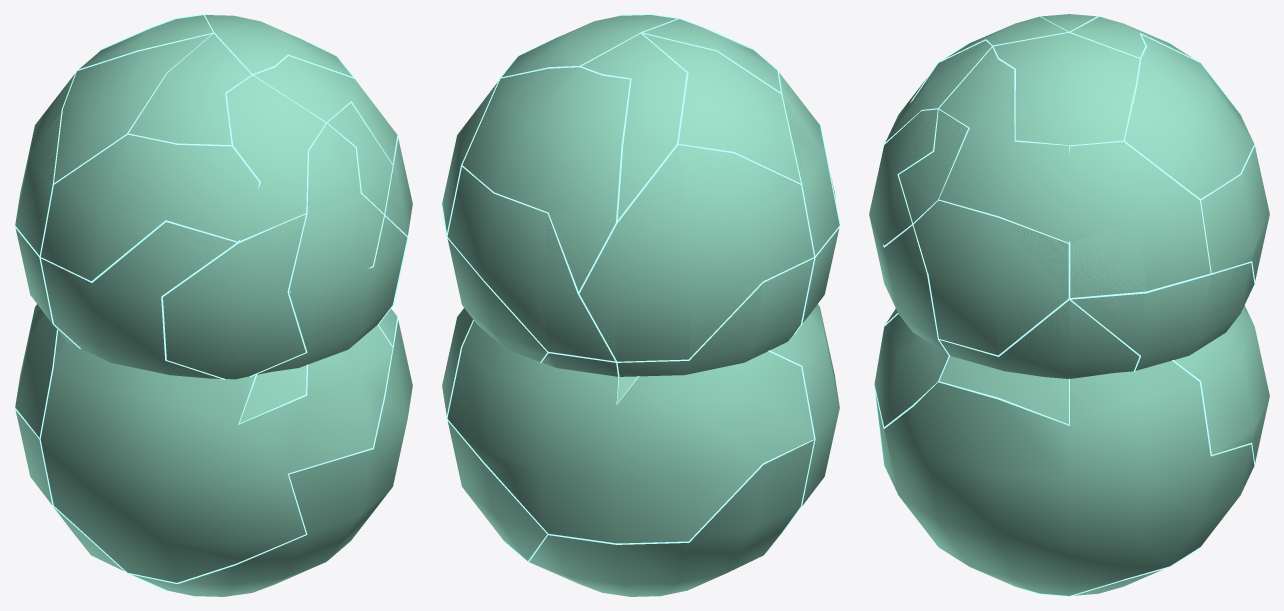
The model's file is Vaccine7.fbx.
The picture shows the model from 3 angles, left to right: view 1: azimuth 30°, elevation 25°; view 2: azimuth 150°, elevation 25°; view 3: azimuth 270°, elevation 25°; orthographic projection.
Visible parts, largest first — view 1: barrier, barrier_chipped, barrier_damaged; view 2: barrier, barrier_chipped, barrier_damaged; view 3: barrier, barrier_chipped, barrier_damaged.
Boxes of the visible parts, x1,y1,x2,y2 form: barrier: [15, 15, 412, 379]; barrier_chipped: [14, 304, 412, 596]; barrier_damaged: [14, 14, 408, 379]; barrier: [442, 15, 839, 376]; barrier_chipped: [442, 304, 839, 596]; barrier_damaged: [441, 14, 840, 377]; barrier: [869, 14, 1269, 378]; barrier_chipped: [873, 305, 1269, 596]; barrier_damaged: [880, 15, 1269, 371].
Bounding box in the file's own units: 2.01 × 3.01 × 2.
